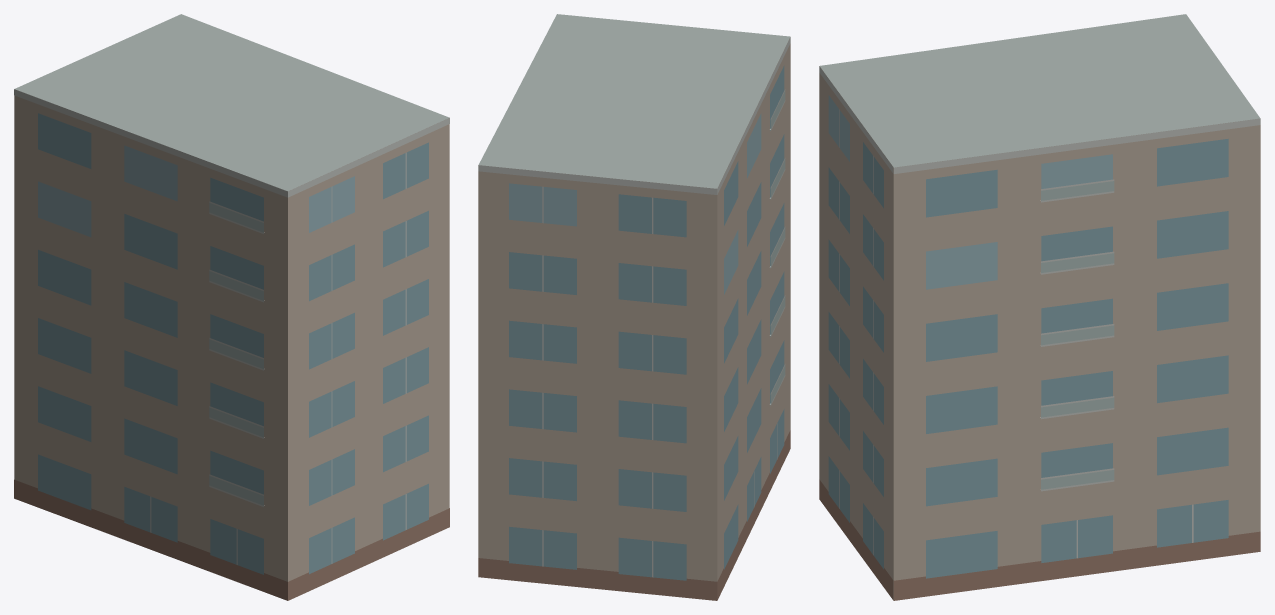
The model's file is survey-upis-33039366.glb.
3 renders of one model, left to right at view 1: azimuth 30°, elevation 25°; view 2: azimuth 150°, elevation 25°; view 3: azimuth 270°, elevation 25°, orthographic. The views are drawn at different scales.
Visible parts, largest first — view 1: survey-upis-33039366.tmp; view 2: survey-upis-33039366.tmp; view 3: survey-upis-33039366.tmp.
Part boxes in pixels (<box>): survey-upis-33039366.tmp: <box>14,14,449,600</box>; survey-upis-33039366.tmp: <box>478,14,790,600</box>; survey-upis-33039366.tmp: <box>819,14,1260,600</box>.
Bounding box in the file's own units: 12.13 × 15.95 × 14.73.
